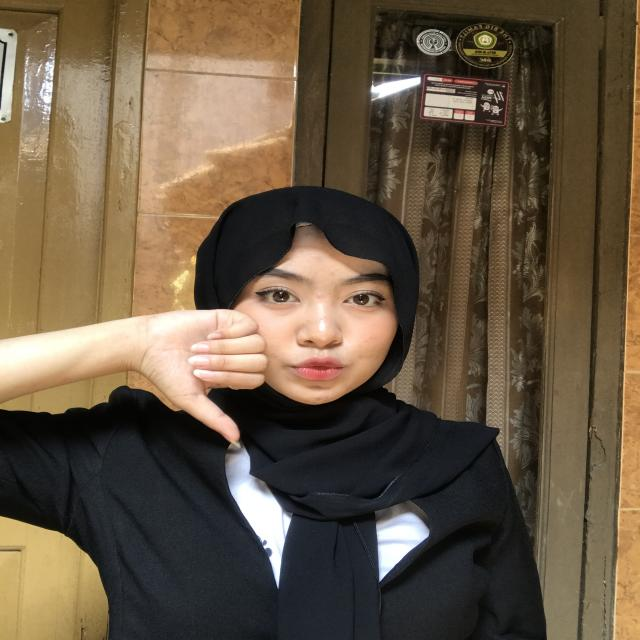sedih: (94, 286, 276, 450)
